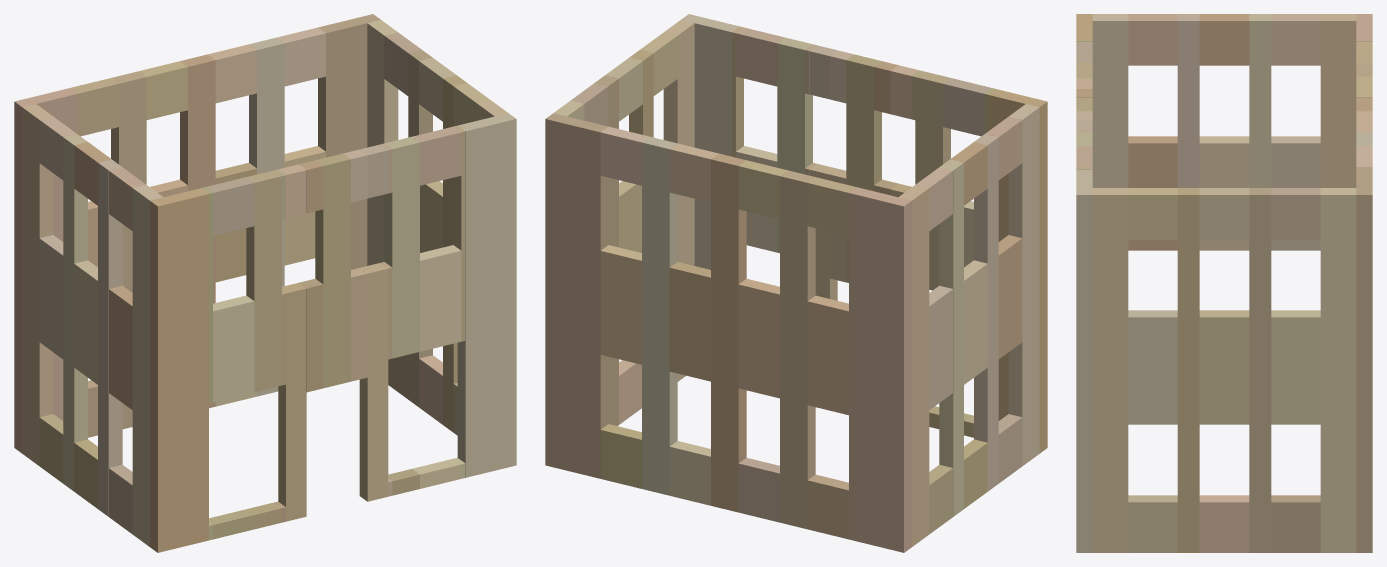
Rendered from Shop_Bakery_Walls.glb.
3 renders of one model, left to right at view 1: azimuth 30°, elevation 25°; view 2: azimuth 150°, elevation 25°; view 3: azimuth 270°, elevation 25°, orthographic. The views are drawn at different scales.
Visible parts, largest first — view 1: Shop_Bakery_Walls; view 2: Shop_Bakery_Walls; view 3: Shop_Bakery_Walls.
Part boxes in pixels (x1,y1,x2,y2): Shop_Bakery_Walls: [14, 14, 516, 552]; Shop_Bakery_Walls: [545, 14, 1047, 552]; Shop_Bakery_Walls: [1076, 14, 1372, 552].
Bounding box in the file's own units: 26 × 24 × 18.
